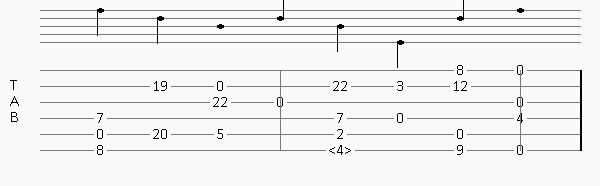0: (96, 127, 108, 141), (216, 79, 228, 93), (276, 95, 288, 109), (396, 111, 408, 125), (456, 127, 468, 141), (516, 143, 528, 157), (516, 63, 528, 77), (516, 95, 528, 109)
12: (452, 79, 472, 93)
19: (152, 79, 172, 93)
2: (336, 127, 348, 141)
20: (152, 127, 172, 141)
22: (212, 95, 232, 109), (332, 79, 352, 93)
3: (396, 79, 408, 93)
4: (516, 111, 528, 125)
5: (216, 127, 228, 141)
7: (96, 111, 108, 125), (336, 111, 348, 125)
8: (96, 143, 108, 157), (456, 63, 468, 77)
9: (456, 143, 468, 157)
harmonic: (328, 143, 356, 157)
